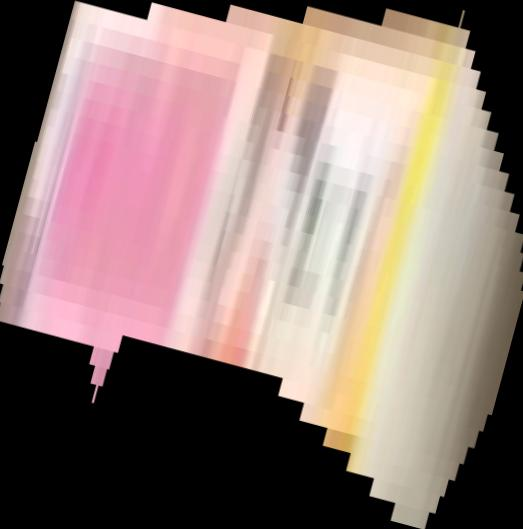flat: (1, 1, 523, 529)
